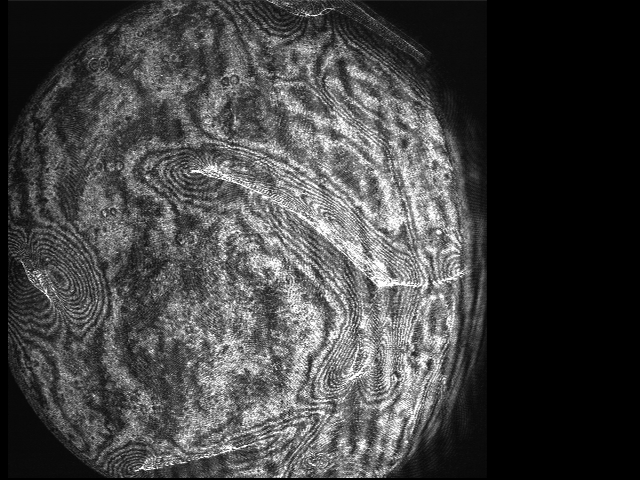plume: (8, 223, 112, 340)
